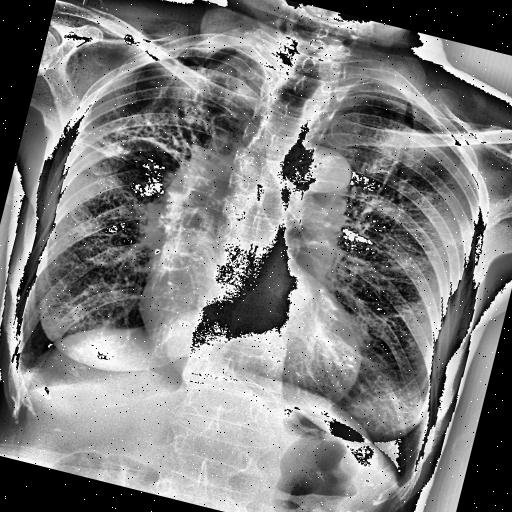0- Aortic enlargement: (268, 138, 362, 224), (276, 137, 356, 204), (281, 139, 358, 199)
10- Pleural effusion: (8, 341, 47, 387)
11- Pleural thickening: (8, 341, 47, 387)
13- Pulmonary fibrosis: (74, 66, 240, 186), (76, 76, 232, 184), (122, 39, 250, 157), (71, 126, 135, 166), (132, 132, 192, 168)
3- Cardiomegaly: (118, 272, 371, 425), (122, 268, 374, 408)
6- Infiltration: (74, 66, 240, 186)
8- Nodule-Mass: (347, 396, 379, 422), (346, 394, 376, 421)
9- Other lesion: (346, 394, 376, 421)
